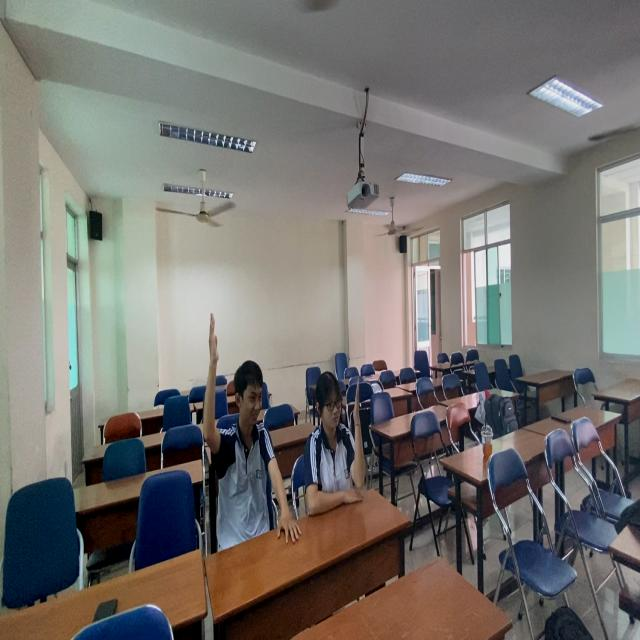raise_hand: (195, 281, 300, 557), (285, 368, 374, 565)
